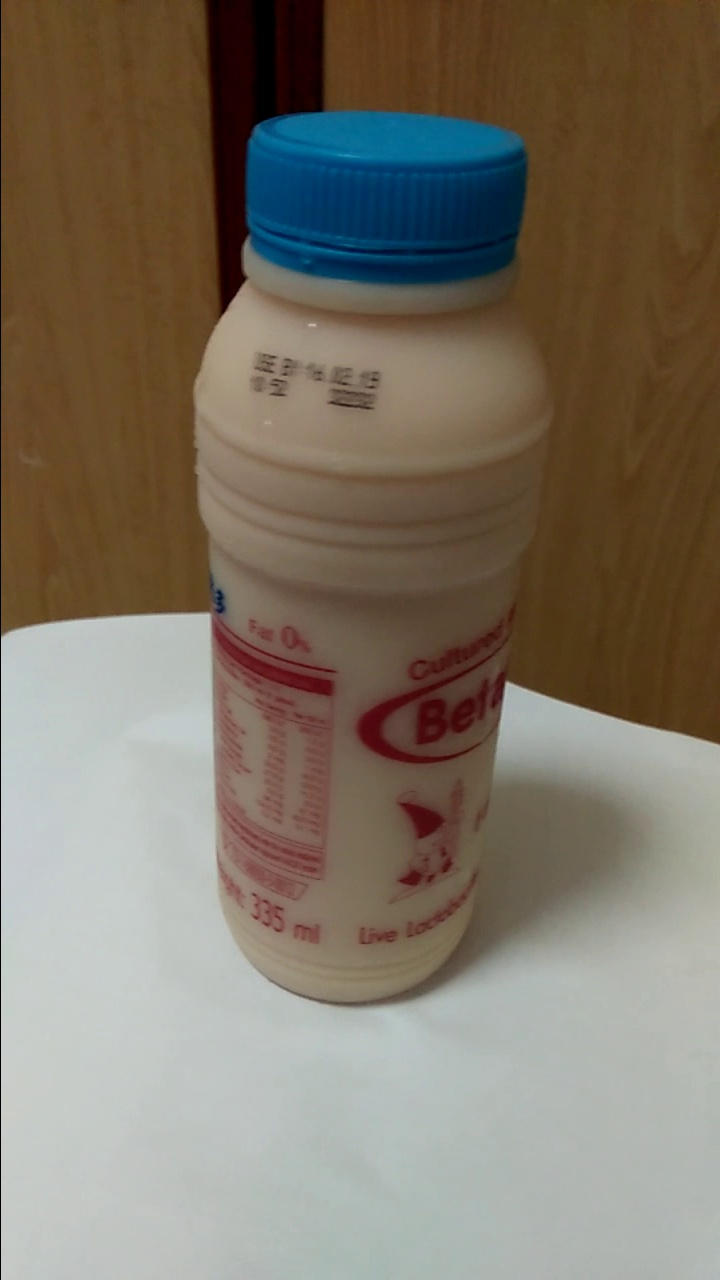mlik2: (178, 110, 517, 1008)
